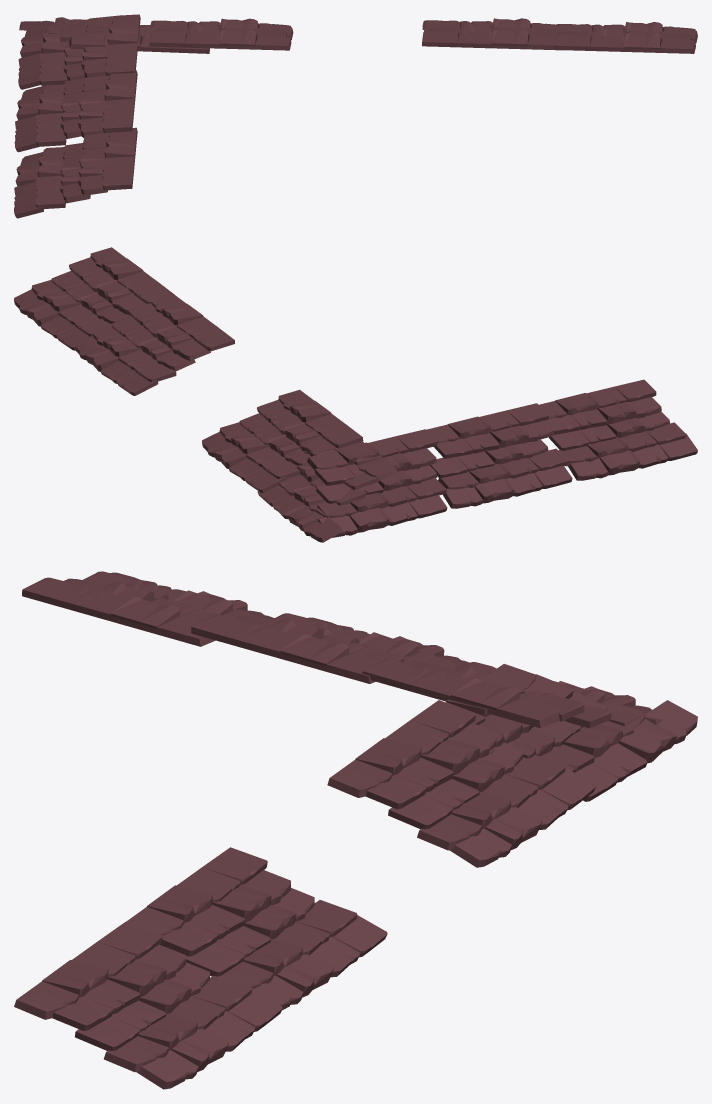
Rendered from RedFrontRoof.fbx.
3 views of the same model, one above another, from view 1: azimuth 30°, elevation 25°; view 2: azimuth 150°, elevation 25°; view 3: azimuth 270°, elevation 25° (orthographic). The views are drawn at different scales.
Visible parts, largest first — view 1: RedFrontRoof_Merged; view 2: RedFrontRoof_Merged; view 3: RedFrontRoof_Merged.
Boxes of the visible parts, x1,y1,x2,y2 form: RedFrontRoof_Merged: (14,14,697,218); RedFrontRoof_Merged: (14,247,697,542); RedFrontRoof_Merged: (14,571,697,1089).
Size of the model in its own units: 1541 by 89.5 by 869.
